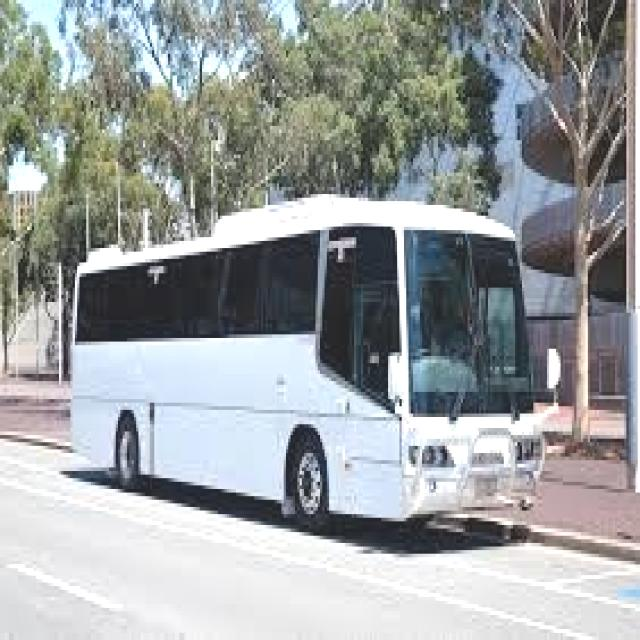bus: (57, 164, 583, 599)
